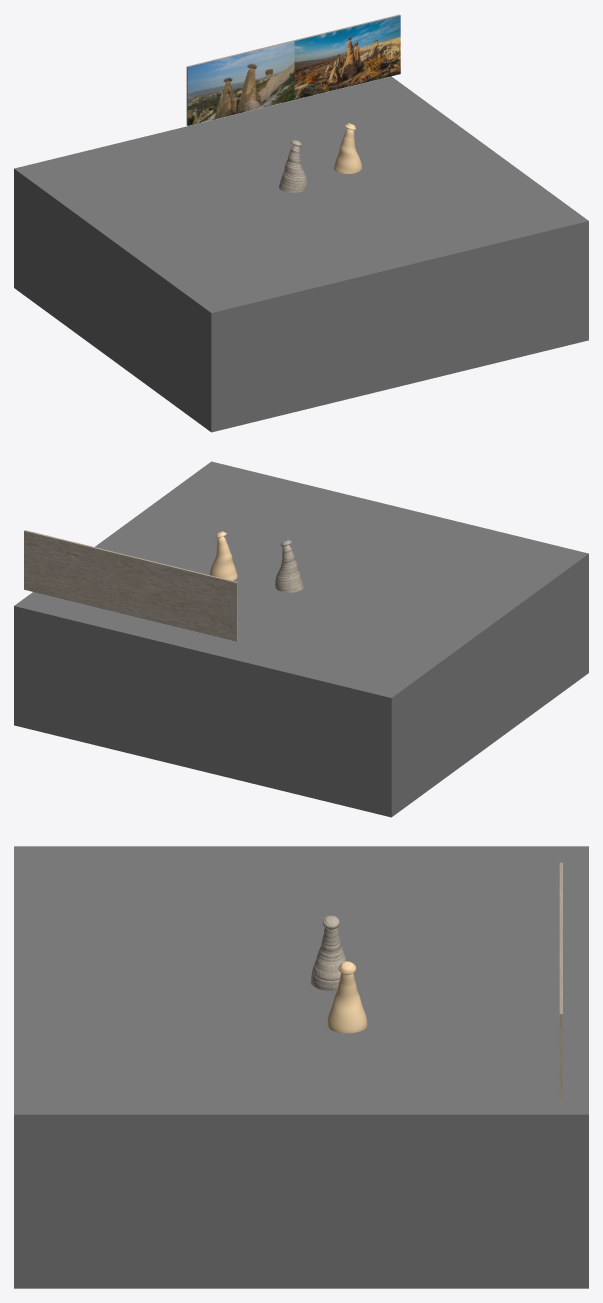
File: peribacaları.fbx
3 renders of one model, top to bottom at view 1: azimuth 30°, elevation 25°; view 2: azimuth 150°, elevation 25°; view 3: azimuth 270°, elevation 25°, orthographic. The views are drawn at different scales.
Parts seen in each view (by area): view 1: zemin, kapadokya-peri-bacalari-uc-guzeller.jpg, 650x344-peri-bacalari-nerede-peri-bacalari-hangi-ilimizdedir, baca, baca2; view 2: zemin, a, baca, baca2; view 3: zemin, baca2, baca, a.
Part boxes in pixels (box(x1,y1,x2,y2)): zemin: box(14, 76, 588, 432); kapadokya-peri-bacalari-uc-guzeller.jpg: box(187, 41, 294, 125); 650x344-peri-bacalari-nerede-peri-bacalari-hangi-ilimizdedir: box(294, 15, 400, 99); baca: box(279, 140, 307, 192); baca2: box(333, 123, 361, 173); zemin: box(14, 461, 588, 817); a: box(24, 530, 237, 641); baca: box(275, 540, 303, 592); baca2: box(209, 531, 237, 580); zemin: box(14, 846, 588, 1288); baca2: box(327, 961, 367, 1033); baca: box(310, 915, 346, 990); a: box(559, 862, 562, 1099).
Bounding box in the file's own units: 155 × 141 × 73.91.
Materials: 5 (3 with a texture image).
